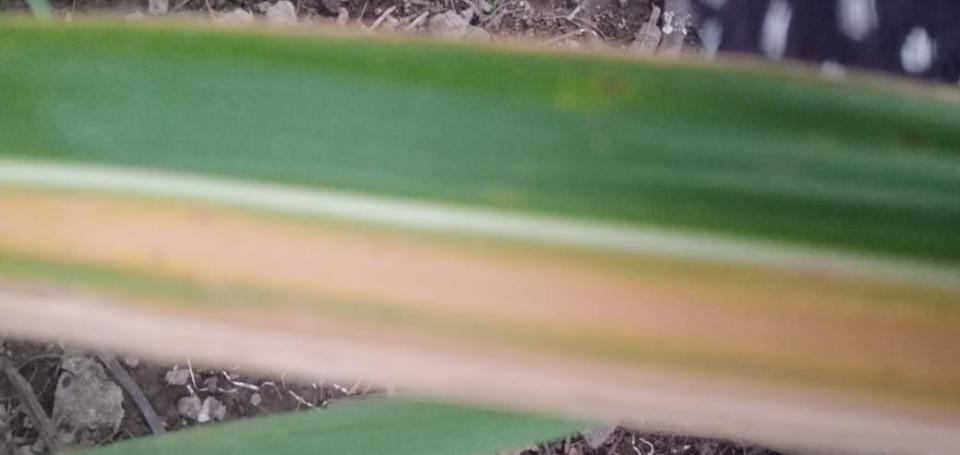Rust: (592, 70, 624, 99), (900, 127, 925, 151)
Yellow: (0, 188, 958, 436), (0, 19, 661, 65)
